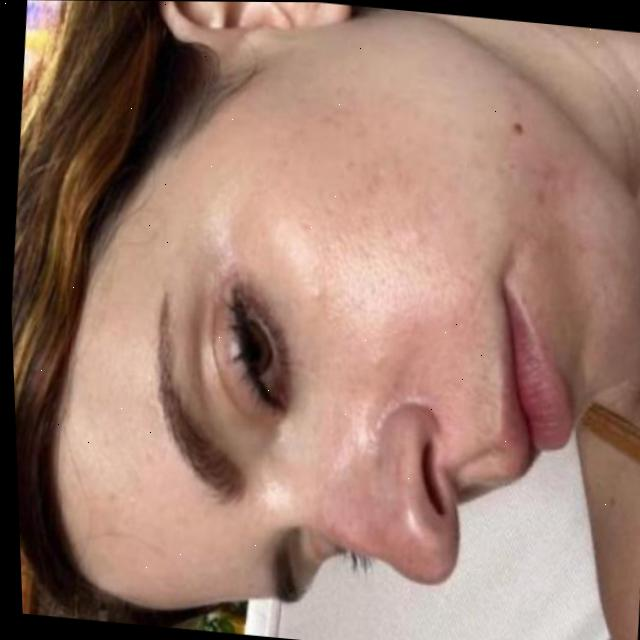Acne: (485, 121, 555, 220)
